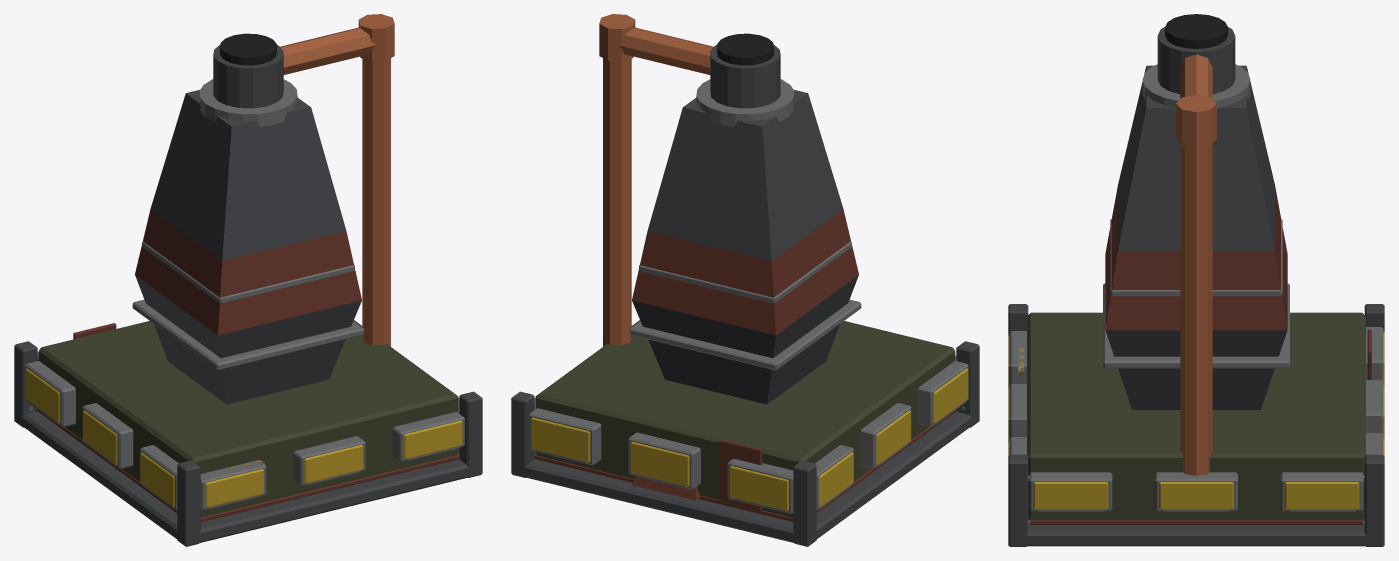
Rendered from smelter_mk1.glb.
3 renders of one model, left to right at view 1: azimuth 30°, elevation 25°; view 2: azimuth 150°, elevation 25°; view 3: azimuth 270°, elevation 25°, orthographic. The views are drawn at different scales.
Visible parts, largest first — view 1: smelter_mk1_CastIron, smelter_mk1_OliveDrab, smelter_mk1_OxideRed, smelter_mk1_WeldedSteel, smelter_mk1_Copper, smelter_mk1_HazardYellow, smelter_mk1_Soot; view 2: smelter_mk1_CastIron, smelter_mk1_OliveDrab, smelter_mk1_OxideRed, smelter_mk1_WeldedSteel, smelter_mk1_Copper, smelter_mk1_HazardYellow, smelter_mk1_Soot; view 3: smelter_mk1_OliveDrab, smelter_mk1_CastIron, smelter_mk1_Copper, smelter_mk1_OxideRed, smelter_mk1_WeldedSteel, smelter_mk1_HazardYellow, smelter_mk1_Soot.
Boxes of the visible parts, left/top/right/bottom form: smelter_mk1_CastIron: left=14, top=44, right=482, bottom=546; smelter_mk1_OliveDrab: left=38, top=320, right=458, bottom=517; smelter_mk1_OxideRed: left=36, top=209, right=459, bottom=521; smelter_mk1_WeldedSteel: left=25, top=79, right=464, bottom=510; smelter_mk1_Copper: left=280, top=14, right=394, bottom=346; smelter_mk1_HazardYellow: left=25, top=368, right=462, bottom=507; smelter_mk1_Soot: left=220, top=33, right=276, bottom=65; smelter_mk1_CastIron: left=511, top=44, right=979, bottom=546; smelter_mk1_OliveDrab: left=535, top=320, right=955, bottom=517; smelter_mk1_OxideRed: left=534, top=209, right=957, bottom=521; smelter_mk1_WeldedSteel: left=529, top=79, right=968, bottom=513; smelter_mk1_Copper: left=599, top=14, right=713, bottom=346; smelter_mk1_HazardYellow: left=531, top=368, right=968, bottom=511; smelter_mk1_Soot: left=717, top=33, right=773, bottom=65; smelter_mk1_OliveDrab: left=1027, top=312, right=1365, bottom=520; smelter_mk1_CastIron: left=1008, top=27, right=1384, bottom=546; smelter_mk1_Copper: left=1176, top=54, right=1216, bottom=475; smelter_mk1_OxideRed: left=1028, top=186, right=1371, bottom=524; smelter_mk1_WeldedSteel: left=1009, top=64, right=1383, bottom=526; smelter_mk1_HazardYellow: left=1008, top=332, right=1384, bottom=509; smelter_mk1_Soot: left=1165, top=14, right=1227, bottom=48.
Bounding box in the file's own units: 6 × 7.75 × 6.
